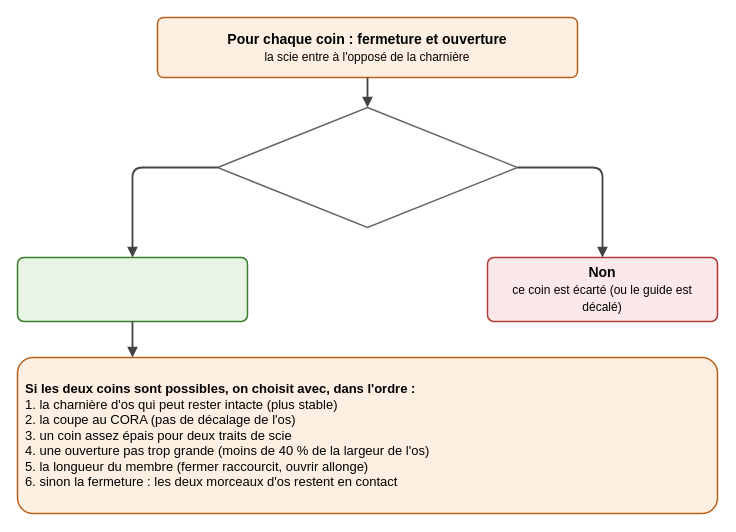
This 736x532 diagram has some shape labels left out. The box of each missing label's shape, as (x1, y1, x2, y2) in pixels:
La scie peut-elle entrer par un abord chirurgical habituel ?: (216, 106, 518, 228)
Oui le coin est possible: (16, 256, 248, 322)
